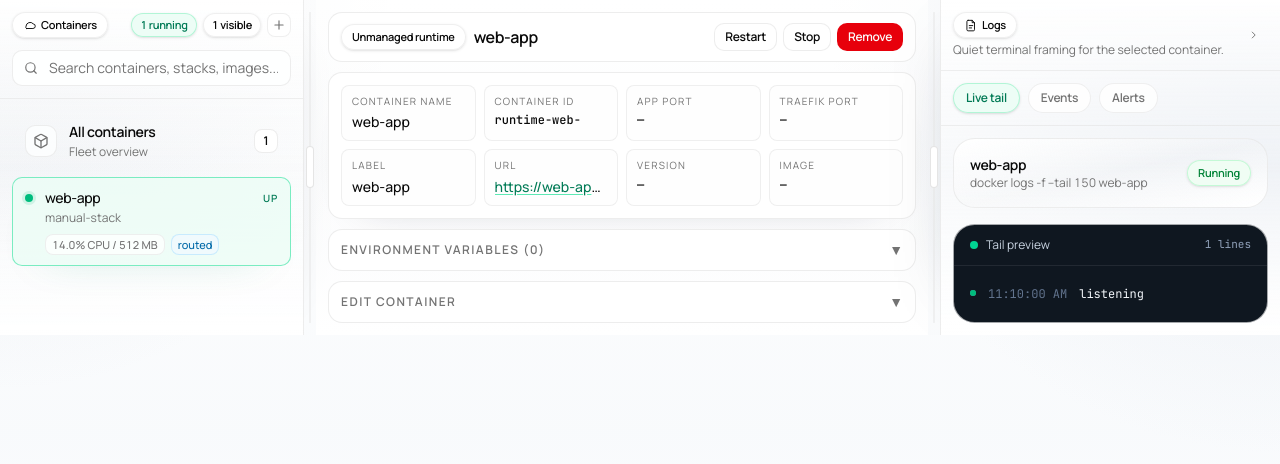
Test case: ContainersShell › removes a deleted container from the list without a page refresh
Click the button "Remove" at (870, 37), box [837, 23, 903, 51]
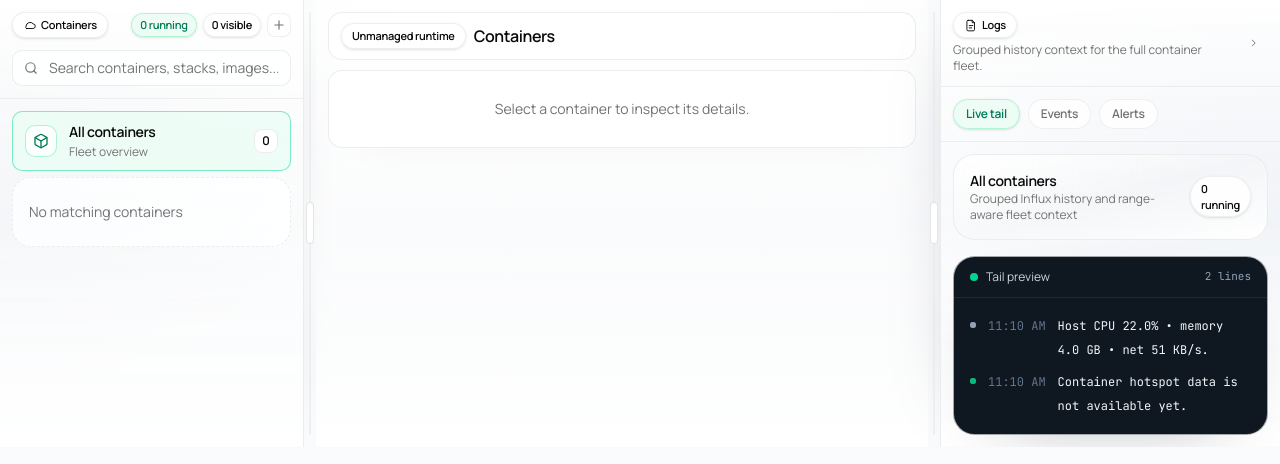
Expected: the button "web-app" is gone
